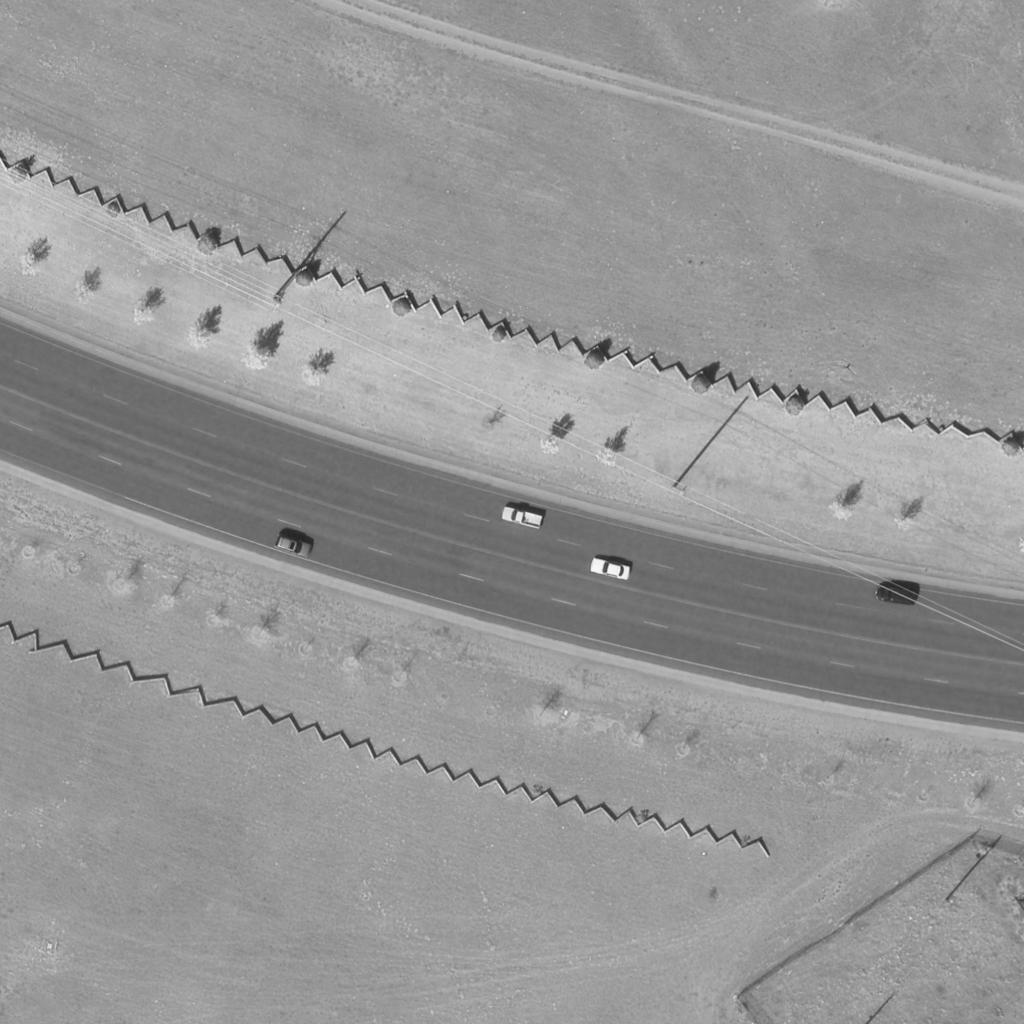vehicle: (590, 558, 632, 582), (501, 507, 543, 529), (277, 535, 313, 557), (875, 586, 917, 604)
